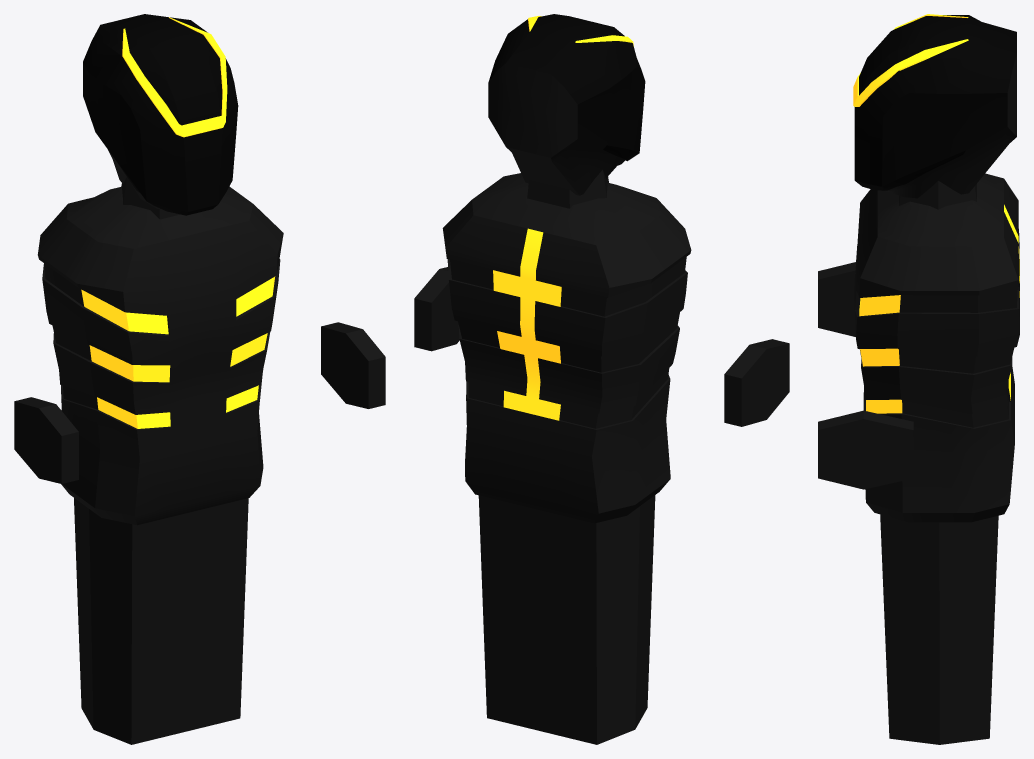
The model's file is HumanModel_g.fbx.
The picture shows the model from 3 angles, left to right: view 1: azimuth 30°, elevation 25°; view 2: azimuth 150°, elevation 25°; view 3: azimuth 270°, elevation 25°; orthographic projection.
Visible parts, largest first — view 1: UpperBody.008, Legs.013, Head.002, HandRight.008, HandLeft.008; view 2: UpperBody.008, Legs.013, Head.002, HandRight.008, HandLeft.008; view 3: UpperBody.008, Head.002, Legs.013, HandLeft.008, HandRight.008.
Boxes of the visible parts, x1=… form: UpperBody.008: x1=37, y1=177, x2=283, y2=525; Legs.013: x1=74, y1=498, x2=248, y2=744; Head.002: x1=83, y1=14, x2=238, y2=215; HandRight.008: x1=14, y1=397, x2=78, y2=483; HandLeft.008: x1=321, y1=322, x2=385, y2=408; UpperBody.008: x1=442, y1=170, x2=691, y2=523; Legs.013: x1=478, y1=495, x2=655, y2=744; Head.002: x1=488, y1=14, x2=645, y2=195; HandRight.008: x1=724, y1=339, x2=789, y2=426; HandLeft.008: x1=414, y1=267, x2=459, y2=351; UpperBody.008: x1=854, y1=173, x2=1019, y2=522; Head.002: x1=853, y1=14, x2=1016, y2=198; Legs.013: x1=880, y1=514, x2=998, y2=744; HandLeft.008: x1=818, y1=410, x2=913, y2=489; HandRight.008: x1=818, y1=262, x2=855, y2=336.
Bounding box in the file's own units: 86.09 × 173 × 46.19.
